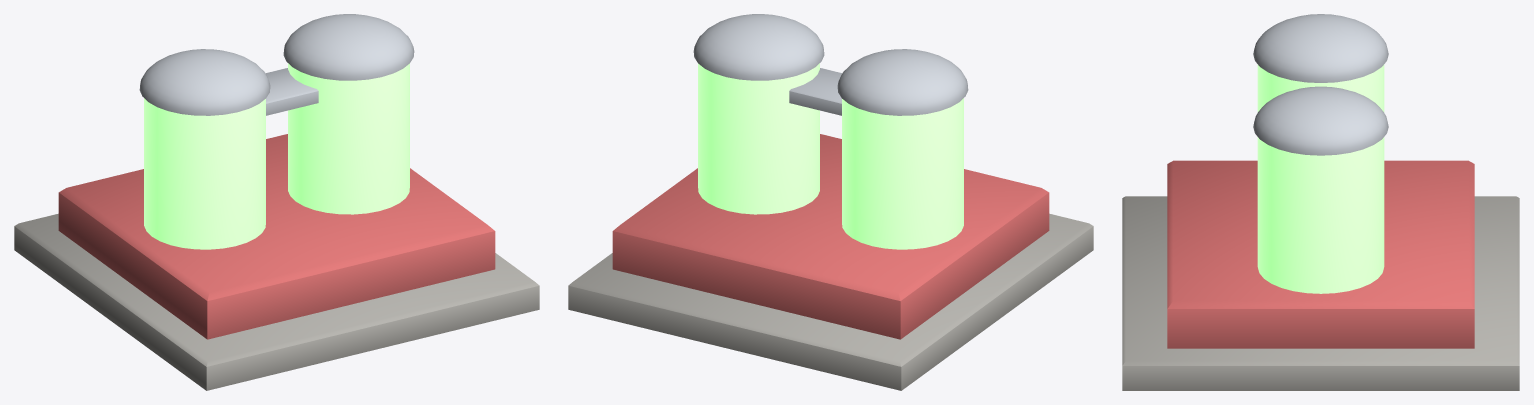
File: naclon.glb
3 renders of one model, left to right at view 1: azimuth 30°, elevation 25°; view 2: azimuth 150°, elevation 25°; view 3: azimuth 270°, elevation 25°, orthographic. The views are drawn at different scales.
Parts seen in each view (by area): view 1: Hull; view 2: Hull; view 3: Hull.
Part boxes in pixels (x1,y1,x2,y2): Hull: [14, 14, 539, 390]; Hull: [568, 14, 1093, 390]; Hull: [1122, 14, 1519, 390].
Bounding box in the file's own units: 3.17 × 2.15 × 3.17.
